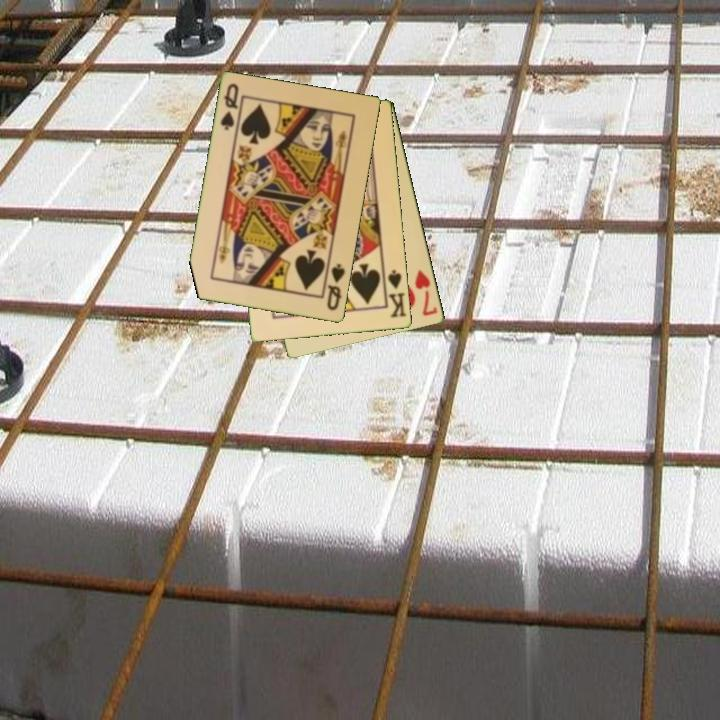7h: (412, 266, 440, 319)
Ks: (385, 266, 410, 321)
Qs: (217, 80, 242, 133), (324, 260, 348, 314)
